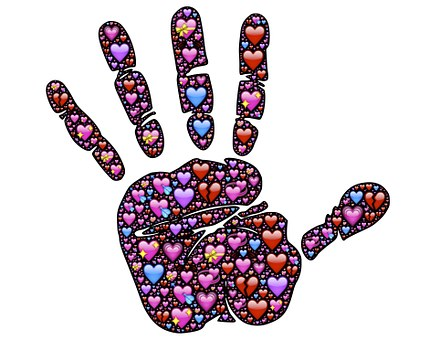palm: (132, 167, 287, 311)
